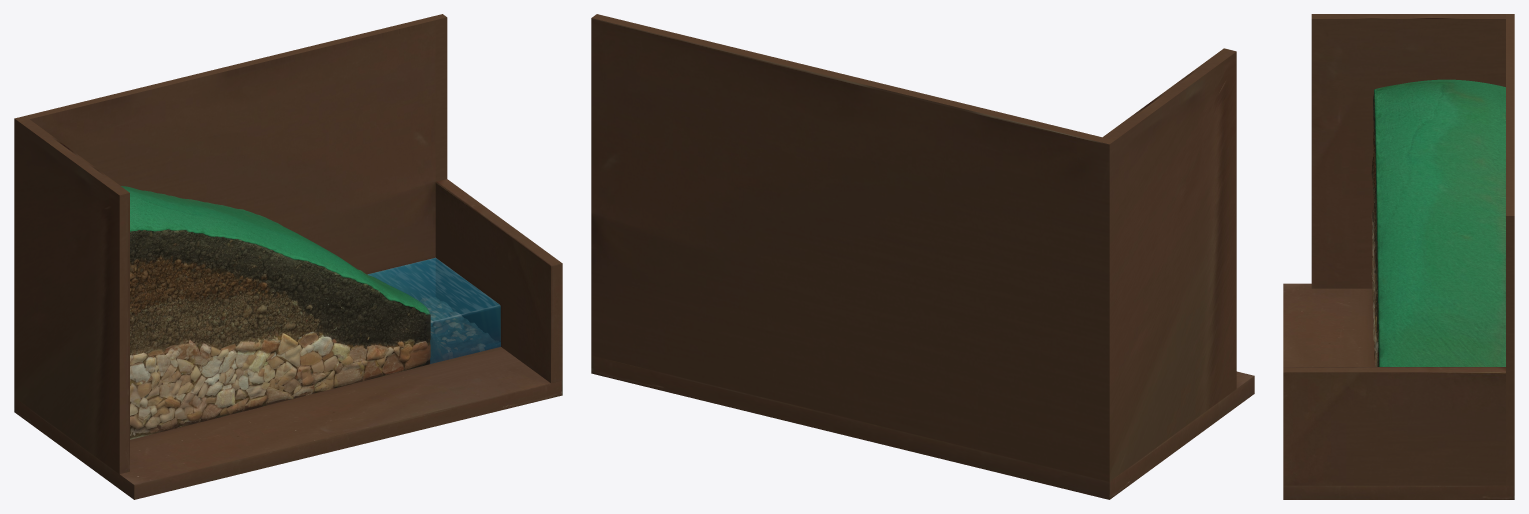
Rendered from maquete_14_solo_na_paisagem_web.glb.
The picture shows the model from 3 angles, left to right: view 1: azimuth 30°, elevation 25°; view 2: azimuth 150°, elevation 25°; view 3: azimuth 270°, elevation 25°; orthographic projection. The views are drawn at different scales.
Visible parts, largest first — view 1: Parede_Fundo_M14, Perfil_Solo_M14, Parede_Esquerda_M14, Base_M14, Parede_Direita_M14, Manta_Verde_M14, Agua_Fundo_M14, Agua_Superficie_M14, Agua_Frente_M14, Leito_Rio_M14; view 2: Parede_Fundo_M14, Parede_Esquerda_M14, Base_M14; view 3: Manta_Verde_M14, Parede_Direita_M14, Parede_Esquerda_M14, Base_M14, Parede_Fundo_M14, Perfil_Solo_M14.
Part boxes in pixels (x1,y1,x2,y2): Parede_Fundo_M14: [14, 14, 447, 274]; Perfil_Solo_M14: [130, 229, 430, 439]; Parede_Esquerda_M14: [14, 118, 129, 474]; Base_M14: [14, 347, 562, 499]; Parede_Direita_M14: [435, 179, 562, 383]; Manta_Verde_M14: [121, 186, 430, 314]; Agua_Fundo_M14: [368, 258, 500, 341]; Agua_Superficie_M14: [367, 257, 499, 321]; Agua_Frente_M14: [430, 305, 500, 363]; Leito_Rio_M14: [420, 297, 500, 363]; Parede_Fundo_M14: [591, 14, 1114, 481]; Parede_Esquerda_M14: [1103, 48, 1236, 481]; Base_M14: [591, 355, 1254, 499]; Manta_Verde_M14: [1374, 79, 1505, 366]; Parede_Direita_M14: [1283, 367, 1505, 485]; Parede_Esquerda_M14: [1311, 14, 1505, 288]; Base_M14: [1283, 283, 1514, 499]; Parede_Fundo_M14: [1506, 14, 1514, 485]; Perfil_Solo_M14: [1371, 93, 1378, 366].
Size of what is drawn, in the model's own units: 0.65 by 0.4261 by 0.315.
7 materials, 7 textured.
